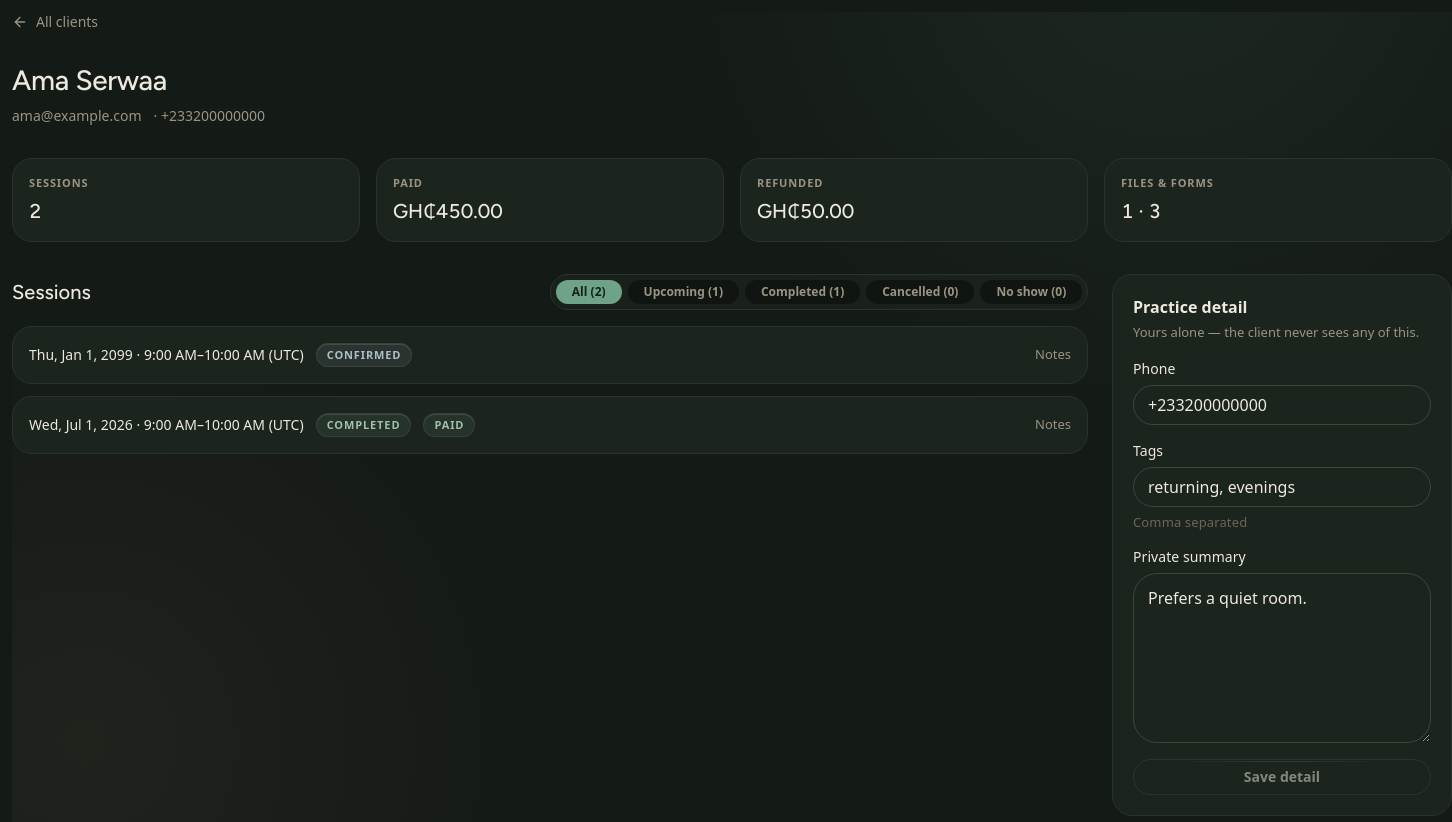
Scenario: ClientRecordPage › keeps the practitioner's edit on screen when the save fails
The width and height of the screenshot is (1452, 822).
Expected: the heading "Ama Serwaa" is shown, [12, 64, 167, 98]
Replace the text in the text box labelled "Private summary" with "Do not lose me." at [1282, 658], box [1133, 573, 1431, 743]
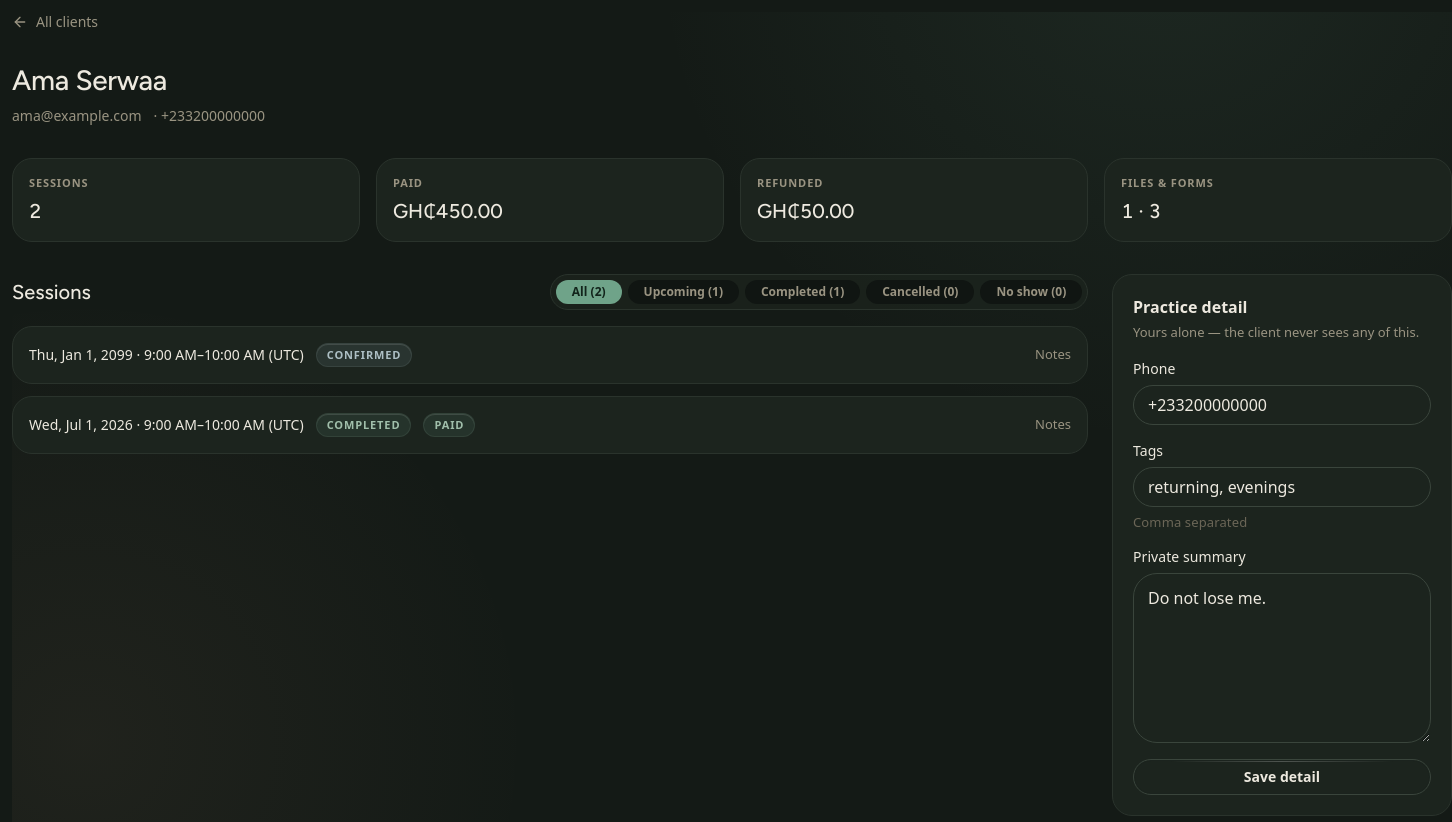
Click the button "Save detail" at [1282, 777], box [1133, 759, 1431, 795]
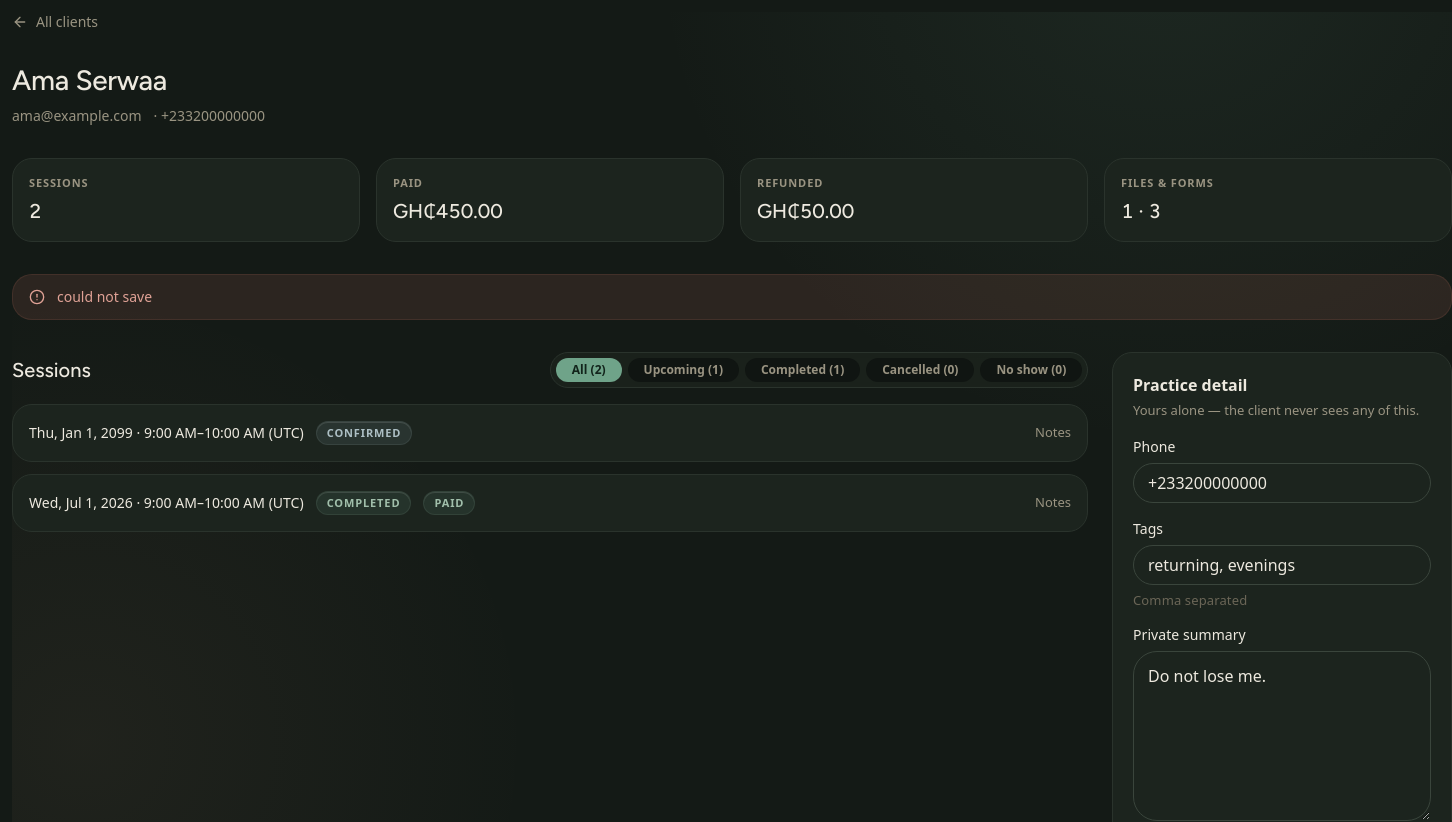
Expected: the message "could not save" is shown, [12, 274, 1451, 320]
